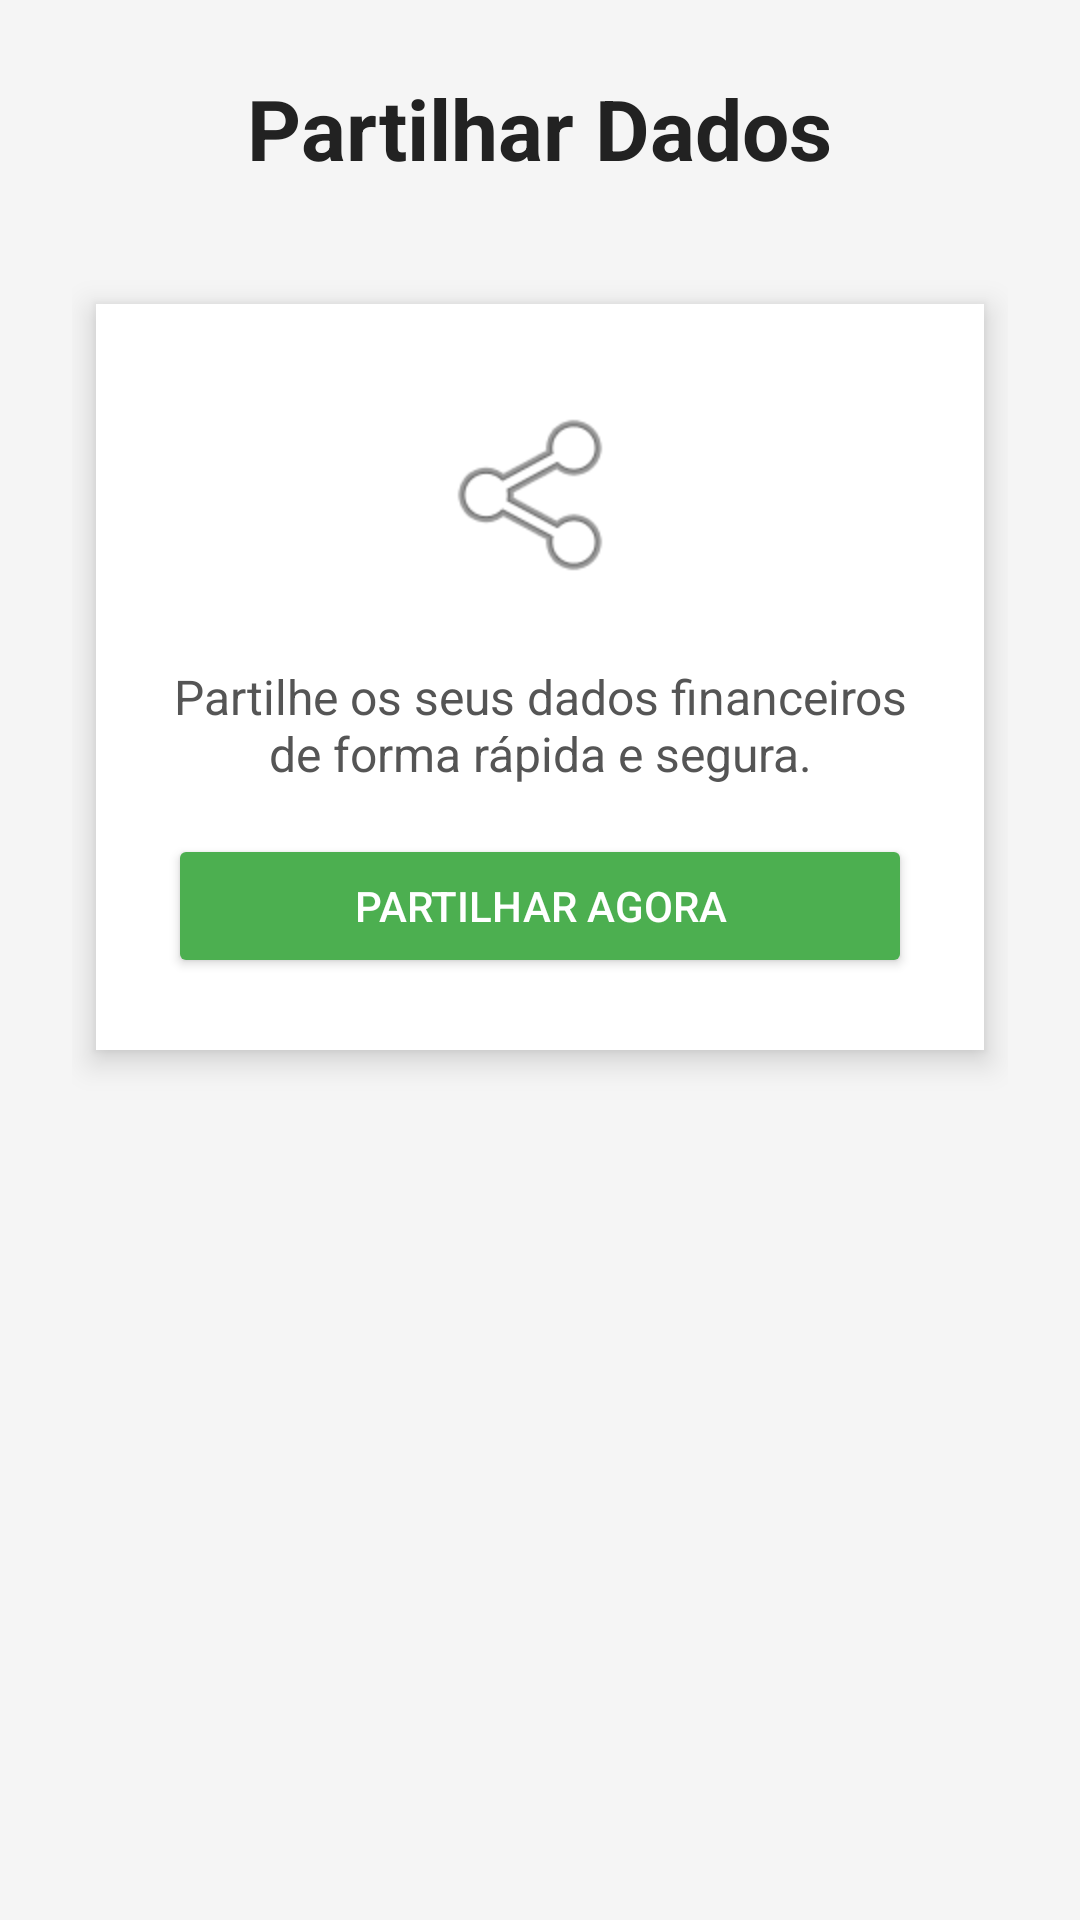

Where to tap for icons on this 1080w x 1920h app screen, as (x=x, y=y):
share: (x=530, y=495)
